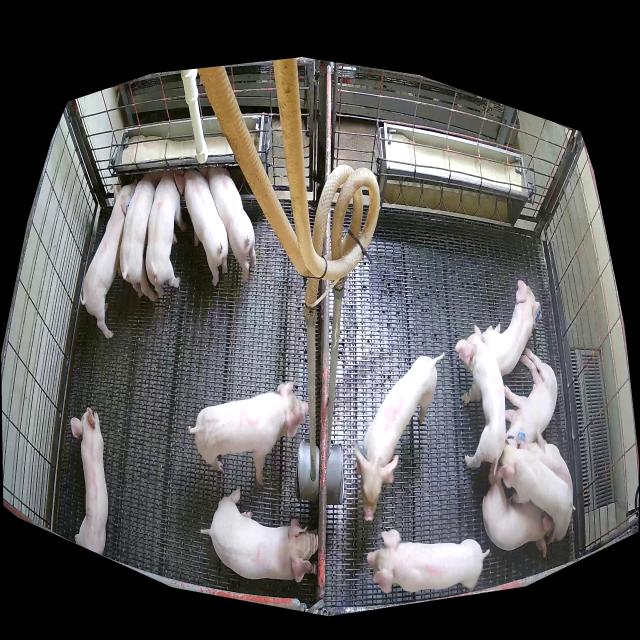pig: (354, 353, 444, 521), (188, 382, 309, 487), (200, 490, 318, 583), (80, 178, 138, 339), (498, 437, 576, 545), (367, 529, 490, 593), (455, 325, 505, 475), (482, 464, 554, 558), (200, 166, 256, 282), (174, 169, 228, 286), (481, 280, 543, 377), (71, 407, 108, 554), (120, 173, 161, 301), (504, 347, 558, 444), (146, 171, 186, 296), (519, 427, 572, 503)
